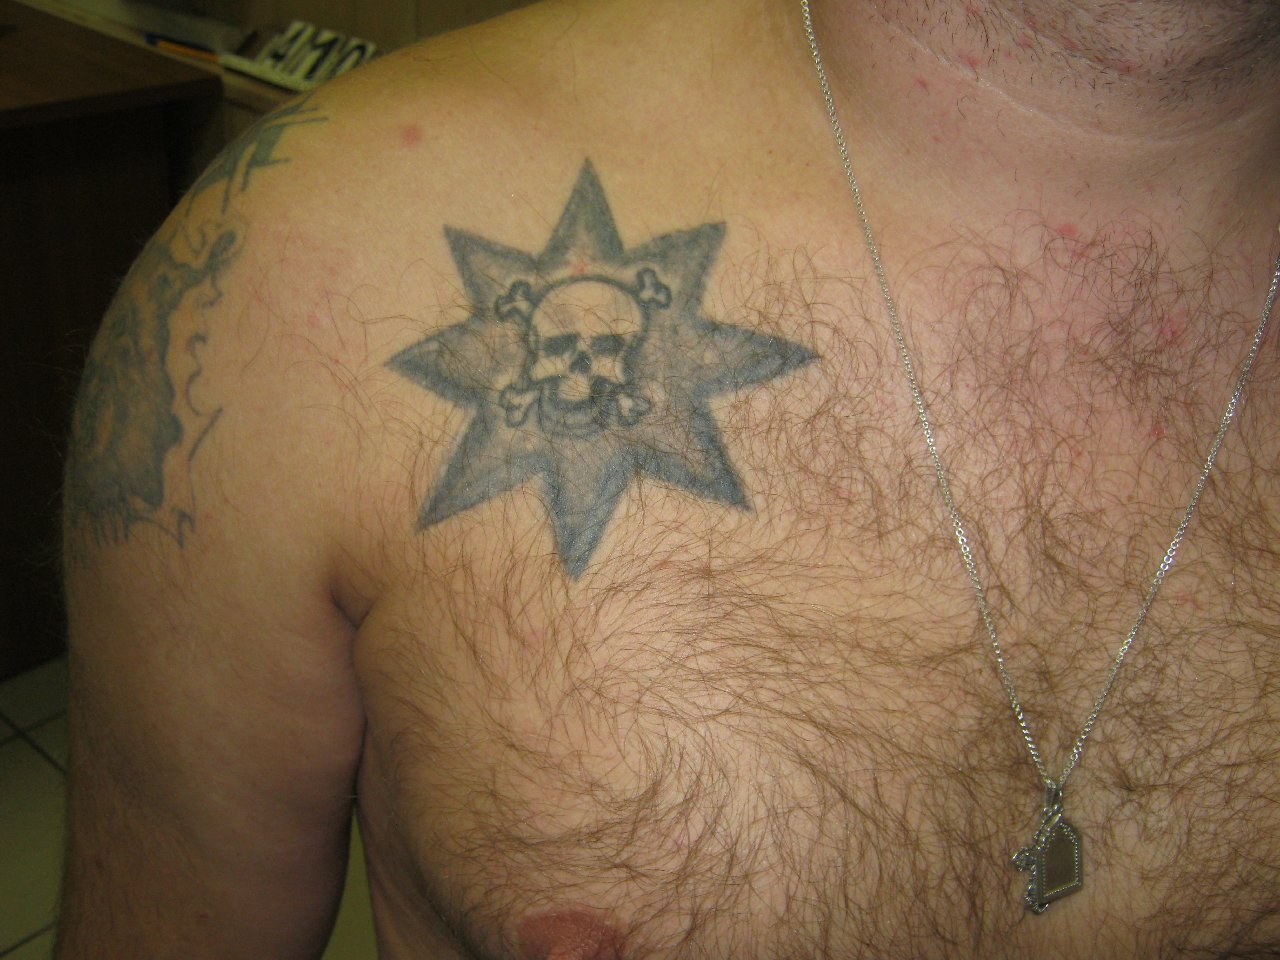tatu4_zvezda: (388, 162, 821, 578)
